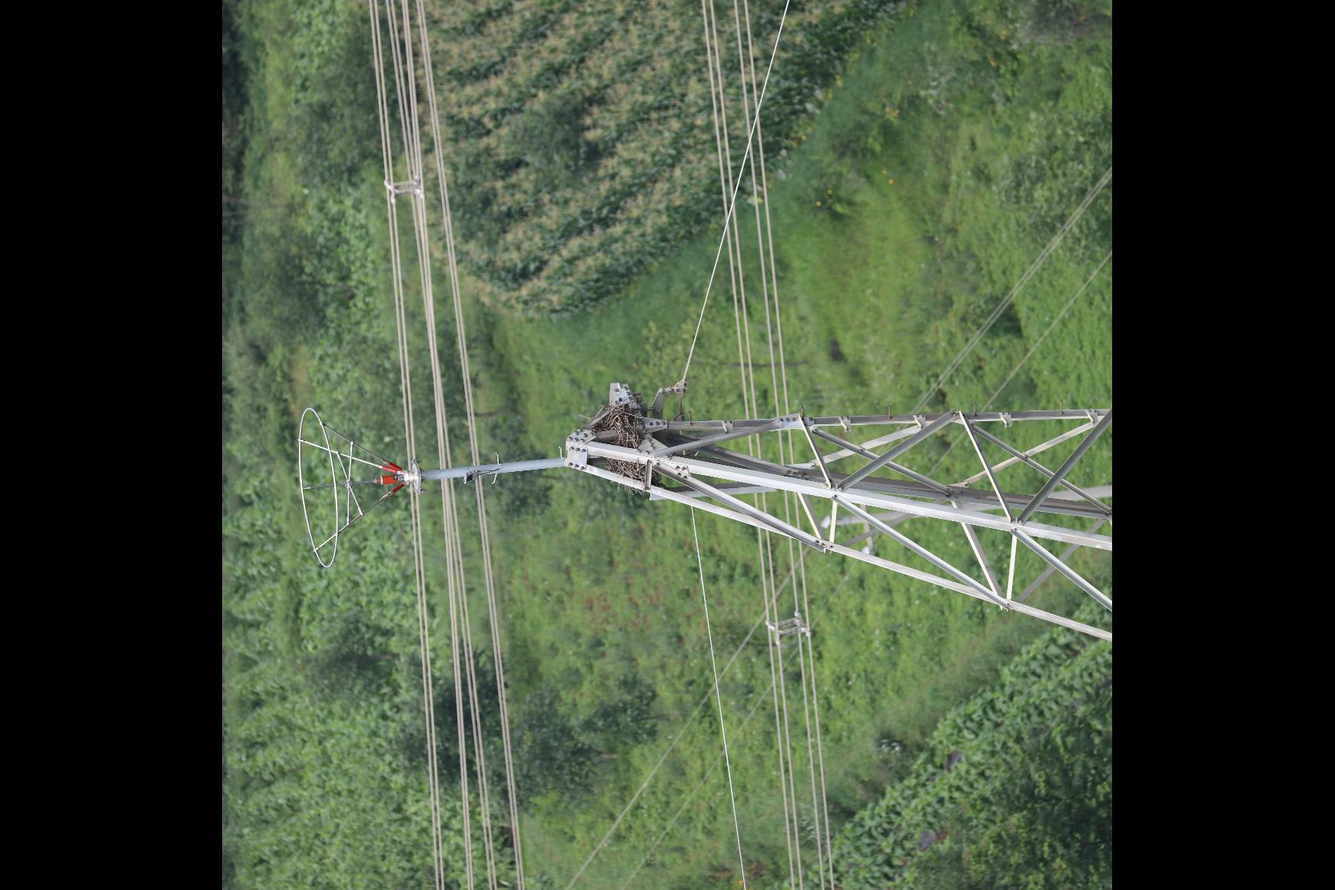nest: (593, 403, 646, 482)
